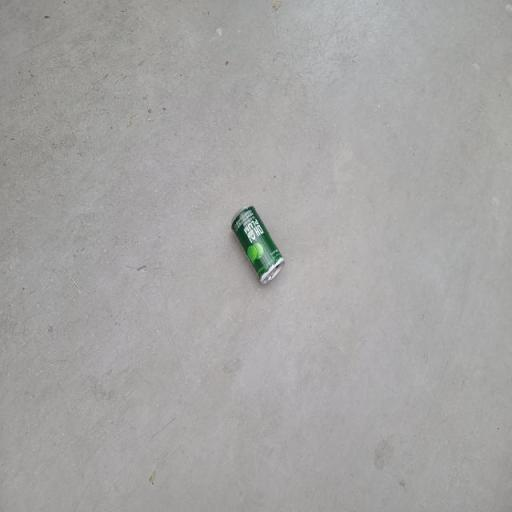metal: (222, 197, 290, 297)
